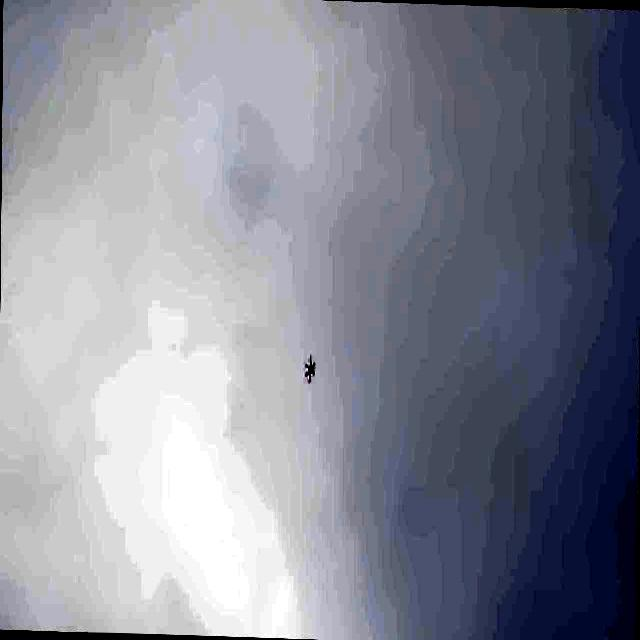drone: (302, 350, 318, 385)
